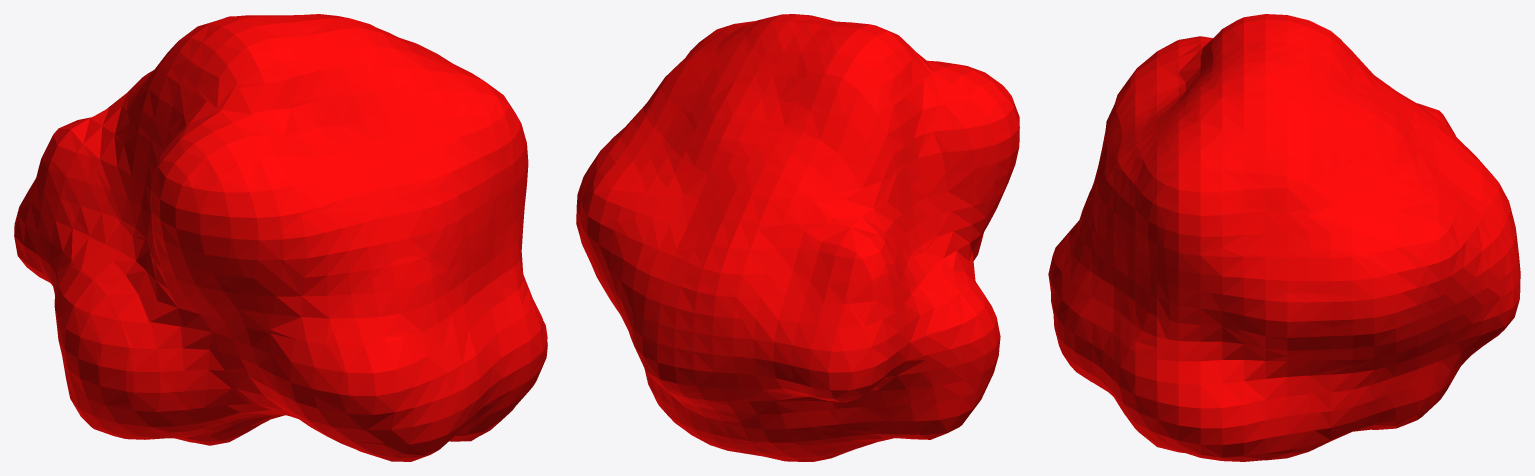
File: cheY_coarse.dae
3 views of the same model, side by side, from view 1: azimuth 30°, elevation 25°; view 2: azimuth 150°, elevation 25°; view 3: azimuth 270°, elevation 25° (orthographic). The views are drawn at different scales.
Visible parts, largest first — view 1: cheY; view 2: cheY; view 3: cheY.
Part boxes in pixels (x1,y1,x2,y2): cheY: [14, 14, 547, 461]; cheY: [576, 14, 1019, 461]; cheY: [1048, 14, 1520, 461].
Size of the model in its own units: 37.05 by 36.96 by 40.75.
